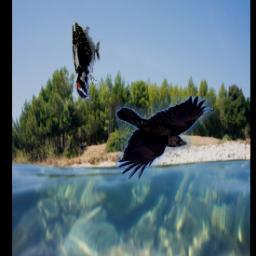Crow: (116, 97, 214, 180)
Woodpecker: (72, 22, 100, 104)
